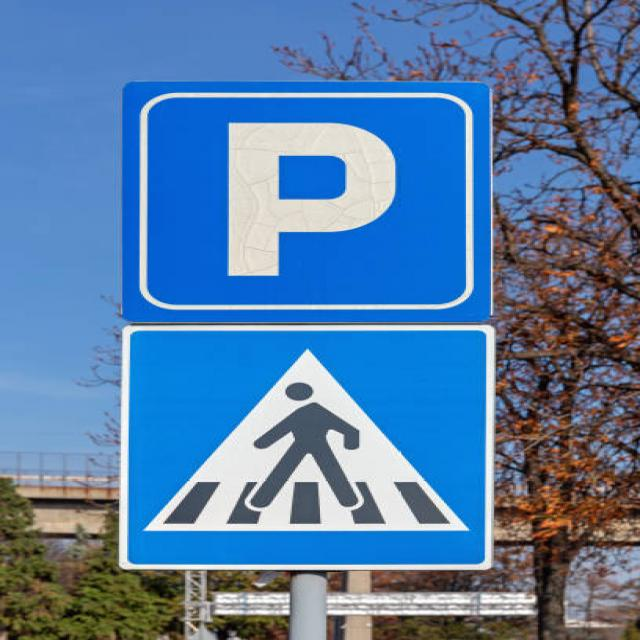crosswalk: (106, 314, 508, 587)
